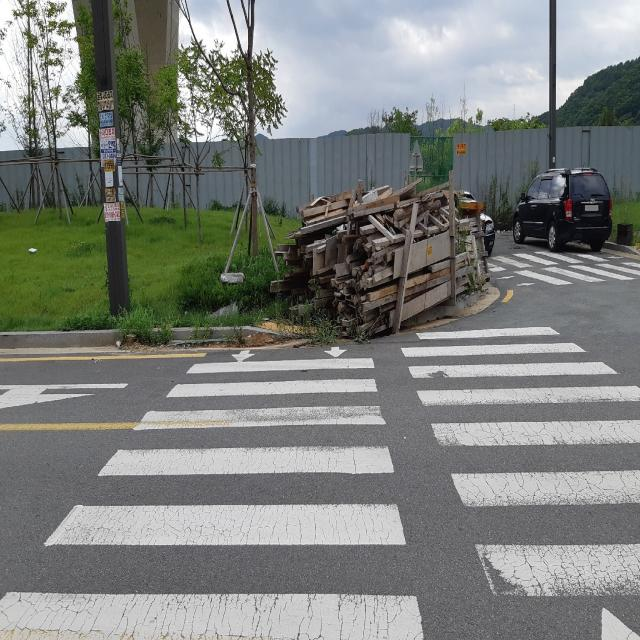횡단보도: (0, 327, 638, 635)
